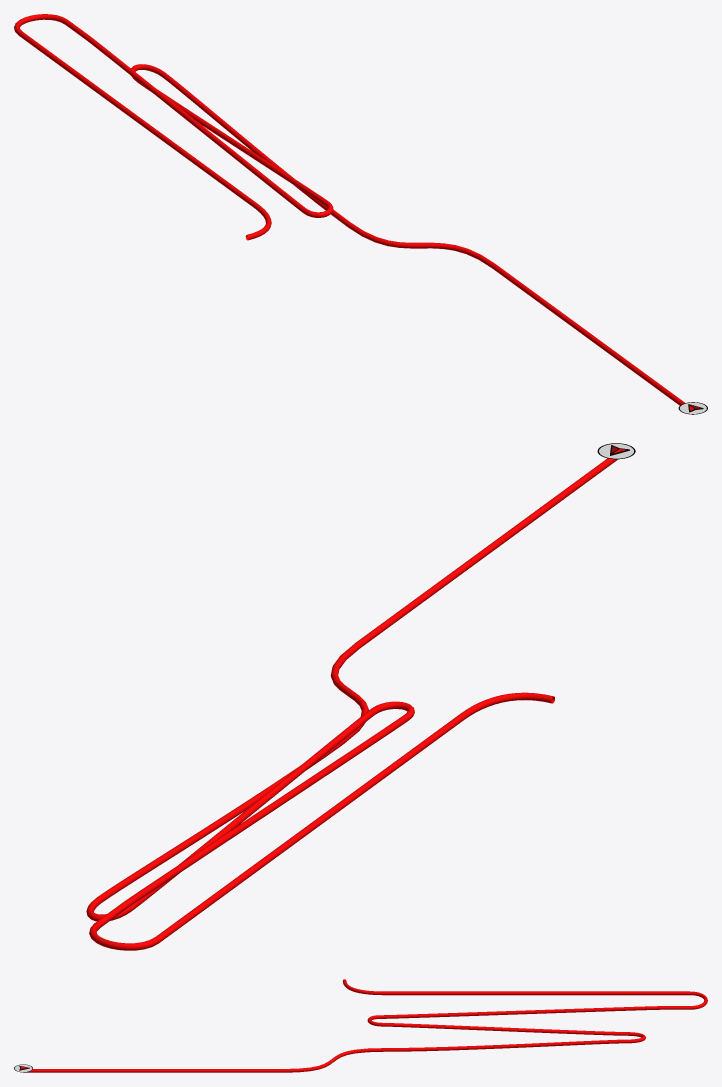
The model's file is route_9573ac65-8140-4a1b-b735-9a4a083dc5a6_en_single.glb.
3 views of the same model, one above another, from view 1: azimuth 30°, elevation 25°; view 2: azimuth 150°, elevation 25°; view 3: azimuth 270°, elevation 25° (orthographic). The views are drawn at different scales.
Visible parts, largest first — view 1: Radiologie oberland; view 2: Radiologie oberland; view 3: Radiologie oberland.
Part boxes in pixels (left/top/right/bottom): Radiologie oberland: left=14, top=14, right=693, bottom=414; Radiologie oberland: left=86, top=458, right=617, bottom=950; Radiologie oberland: left=23, top=979, right=707, bottom=1072.
Bounding box in the file's own units: 3.39 × 0.7201 × 14.86.
